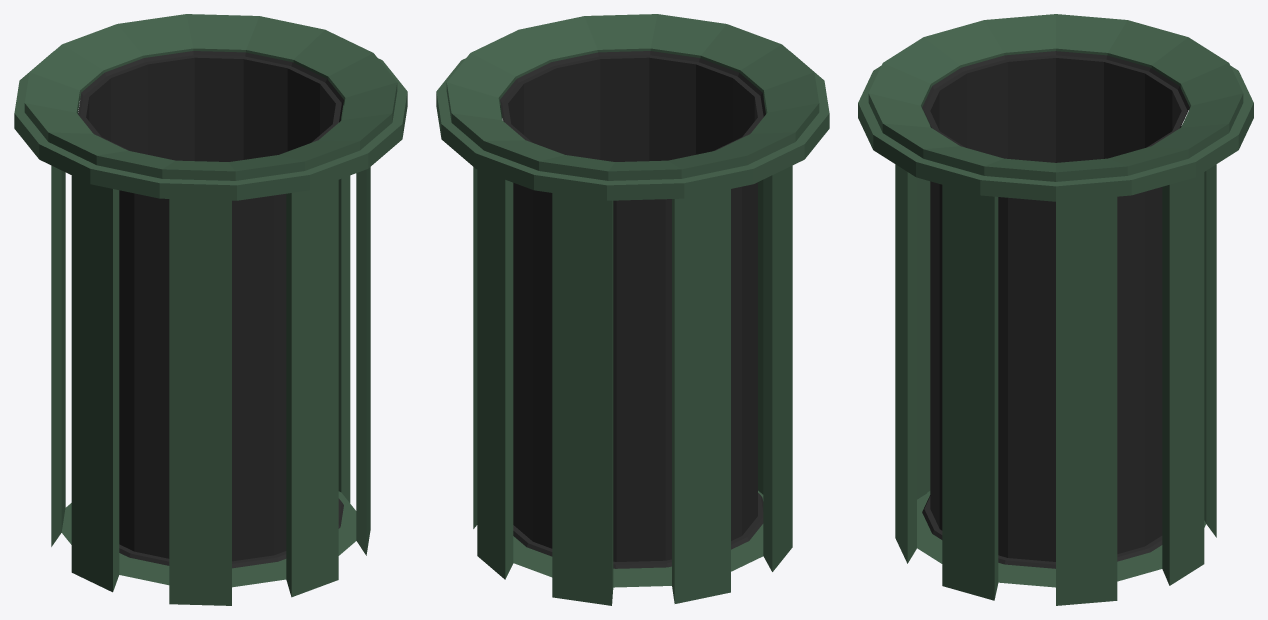
Rendered from trash_can_less_outside_faces.glb.
3 views of the same model, side by side, from view 1: azimuth 30°, elevation 25°; view 2: azimuth 150°, elevation 25°; view 3: azimuth 270°, elevation 25° (orthographic).
Visible parts, largest first — view 1: Outside, Inside; view 2: Outside, Inside; view 3: Outside, Inside.
Boxes of the visible parts, x1=… form: Outside: x1=14, y1=14, x2=407, y2=605; Inside: x1=78, y1=51, x2=343, y2=568; Outside: x1=436, y1=14, x2=829, y2=605; Inside: x1=500, y1=51, x2=765, y2=568; Outside: x1=858, y1=14, x2=1253, y2=605; Inside: x1=922, y1=51, x2=1189, y2=568.
Bounding box in the file's own units: 1.32 × 1.63 × 1.32.
